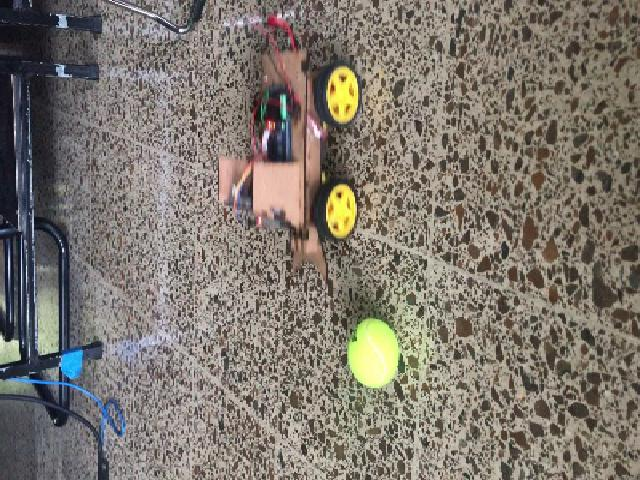Ball: (346, 320, 398, 386)
Robot: (219, 48, 357, 272)
